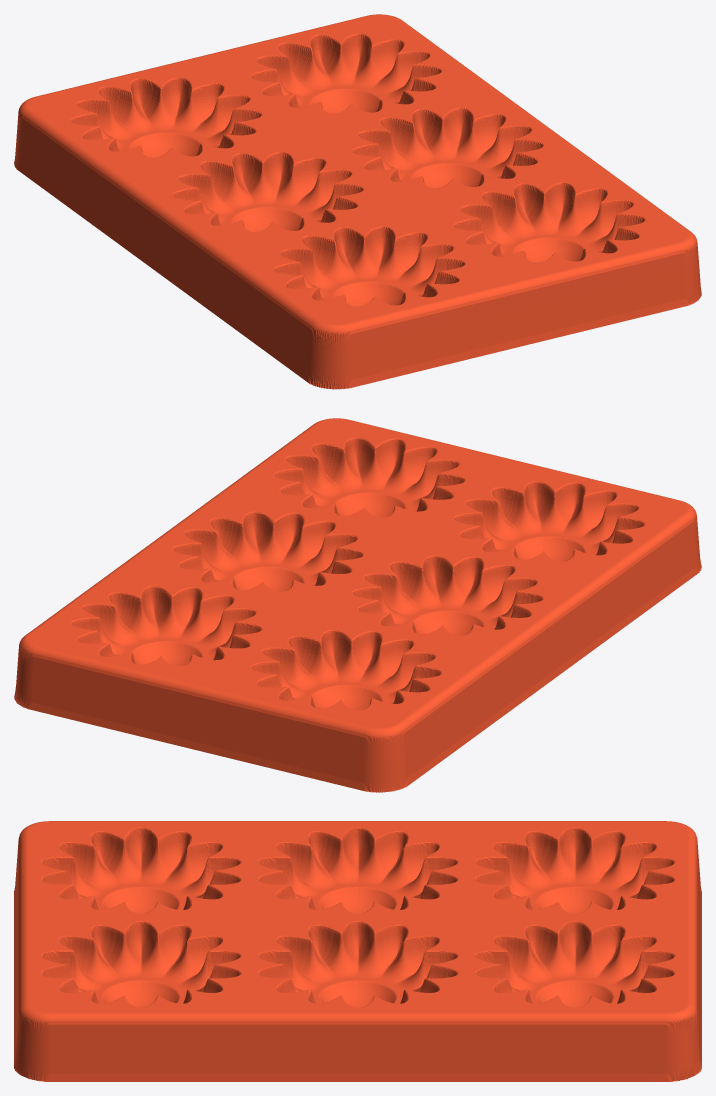
Rendered from mold.glb.
The picture shows the model from 3 angles, top to bottom: view 1: azimuth 30°, elevation 25°; view 2: azimuth 150°, elevation 25°; view 3: azimuth 270°, elevation 25°; orthographic projection. The views are drawn at different scales.
Parts seen in each view (by area): view 1: geometry_0; view 2: geometry_0; view 3: geometry_0.
Boxes of the visible parts, x1=… form: geometry_0: x1=14, y1=14, x2=701, y2=389; geometry_0: x1=14, y1=418, x2=701, y2=792; geometry_0: x1=14, y1=821, x2=701, y2=1081.
Bounding box in the file's own units: 0.1211 × 0.0175 × 0.1735.
